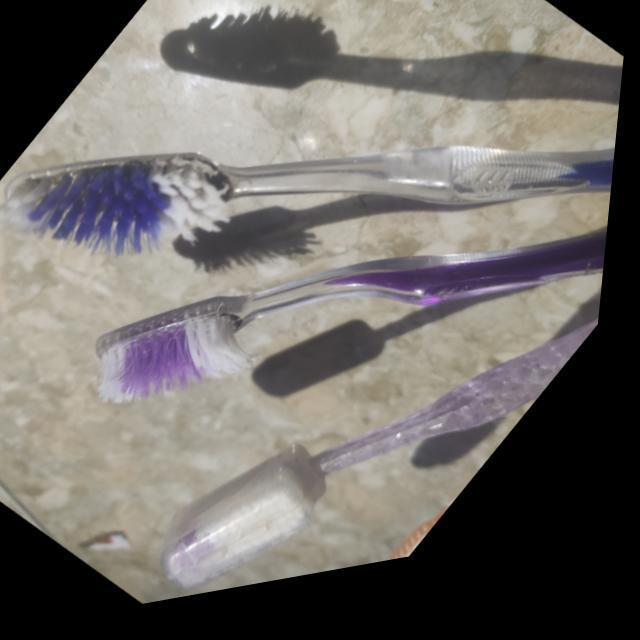toothbrush: (147, 327, 608, 606), (87, 240, 615, 443), (8, 110, 621, 274)
